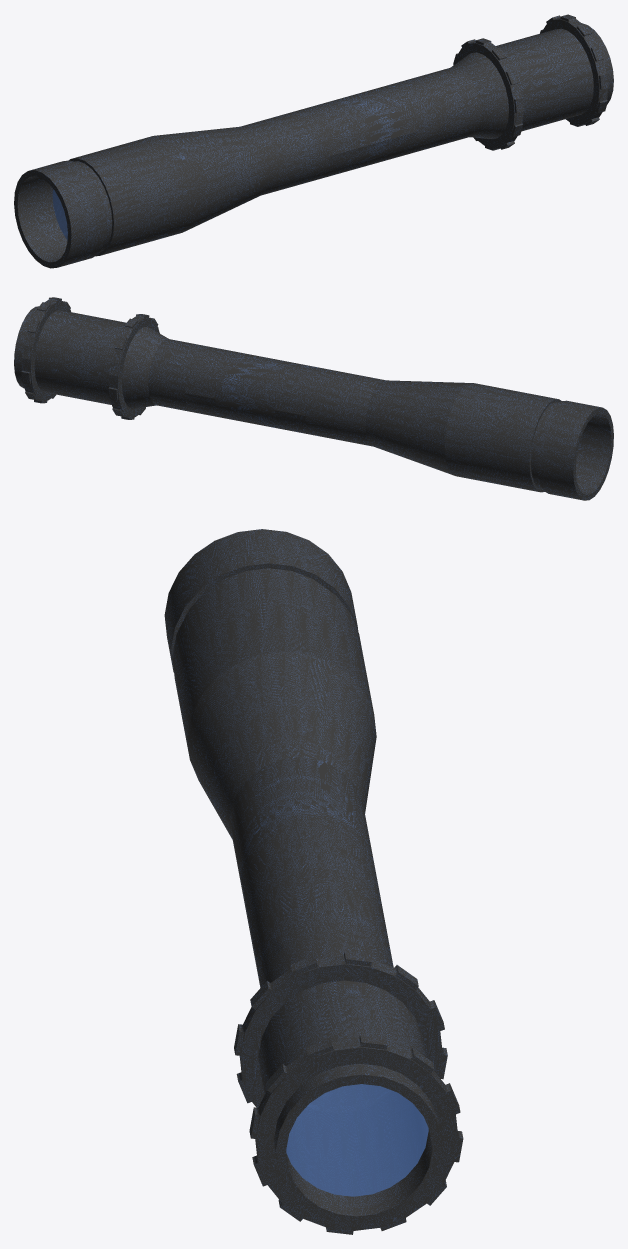
Rendered from original-10.obj.
The picture shows the model from 3 angles, top to bottom: view 1: azimuth 30°, elevation 25°; view 2: azimuth 150°, elevation 25°; view 3: azimuth 270°, elevation 25°; orthographic projection. The views are drawn at different scales.
Parts seen in each view (by area): view 1: mesh13/mesh13-geometry#mesh13-geometry; view 2: mesh13/mesh13-geometry#mesh13-geometry; view 3: mesh13/mesh13-geometry#mesh13-geometry.
Boxes of the visible parts, left/top/right/bottom form: mesh13/mesh13-geometry#mesh13-geometry: left=14, top=14, right=613, bottom=268; mesh13/mesh13-geometry#mesh13-geometry: left=14, top=297, right=613, bottom=500; mesh13/mesh13-geometry#mesh13-geometry: left=164, top=529, right=463, bottom=1234.
Bounding box in the file's own units: 0.4008 × 0.0689 × 0.0955.
